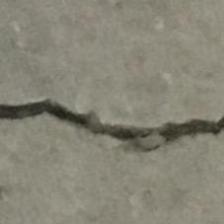Crack: (2, 98, 224, 146)
